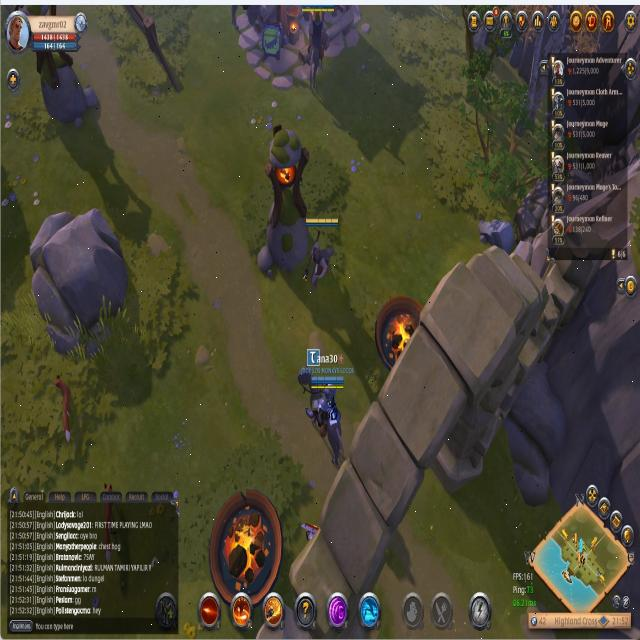stone: (477, 209, 515, 257)
